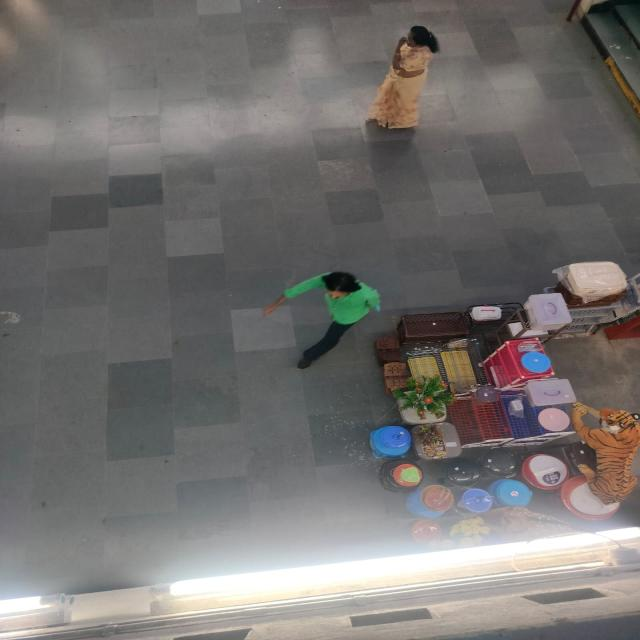humans: (261, 262, 385, 370), (359, 19, 444, 142)
